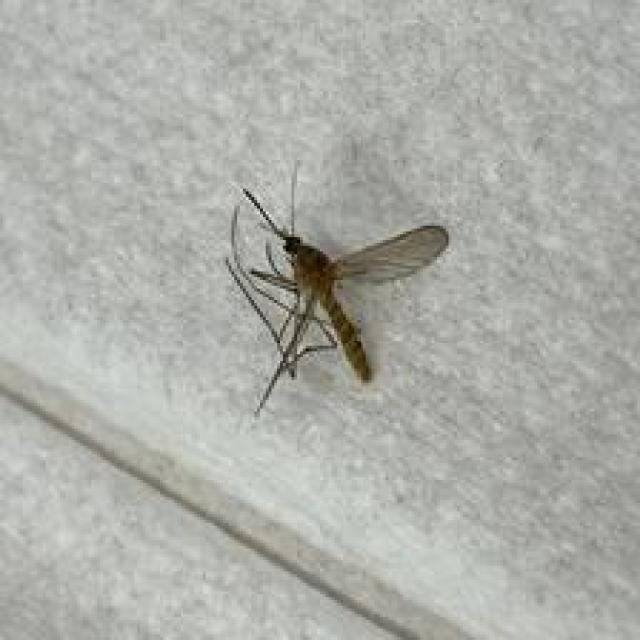Culex: (224, 160, 450, 417)
